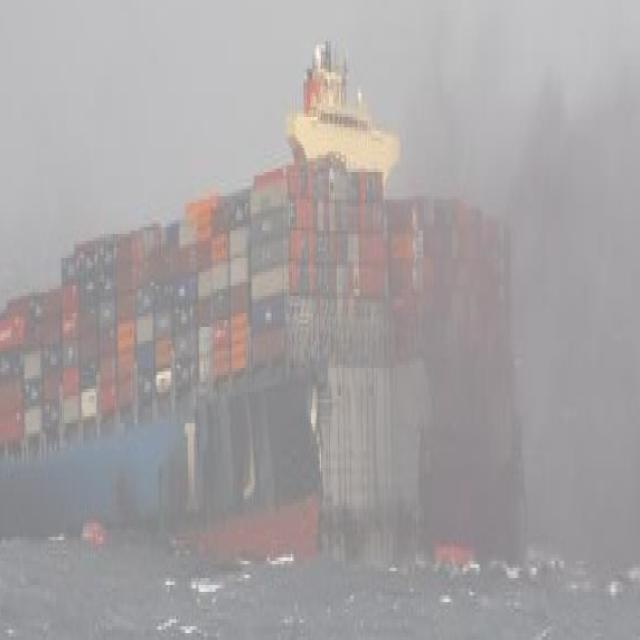cargoship: (0, 28, 533, 547)
